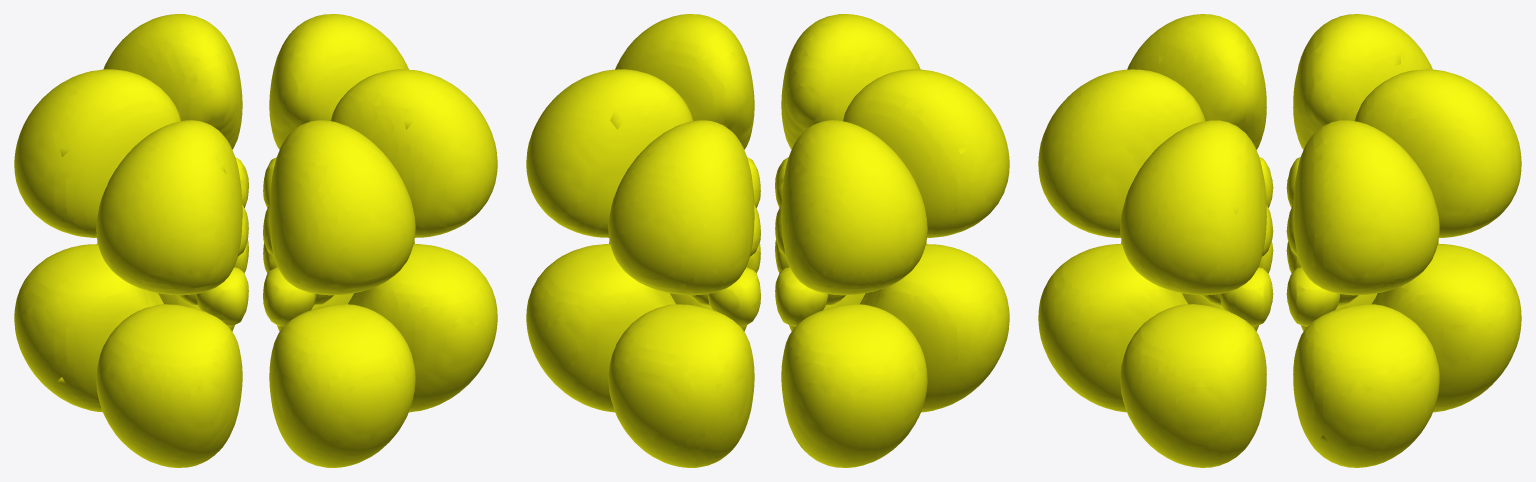
The model's file is orb_n=6_ l=4 _m=-3.fbx.
3 views of the same model, side by side, from view 1: azimuth 30°, elevation 25°; view 2: azimuth 150°, elevation 25°; view 3: azimuth 270°, elevation 25° (orthographic).
Visible parts, largest first — view 1: orb_n=6_ l=4 _m=-3; view 2: orb_n=6_ l=4 _m=-3; view 3: orb_n=6_ l=4 _m=-3.
Boxes of the visible parts, x1,y1,x2,y2 form: orb_n=6_ l=4 _m=-3: (14, 14, 497, 467); orb_n=6_ l=4 _m=-3: (526, 14, 1009, 467); orb_n=6_ l=4 _m=-3: (1038, 14, 1521, 467).
Bounding box in the file's own units: 12253 × 10229 × 13412.
